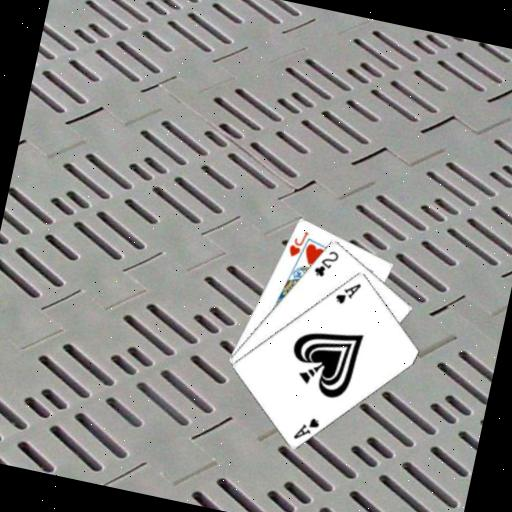2C: (310, 244, 342, 281)
AS: (290, 410, 322, 444), (331, 275, 363, 308)
JH: (284, 225, 310, 260)
